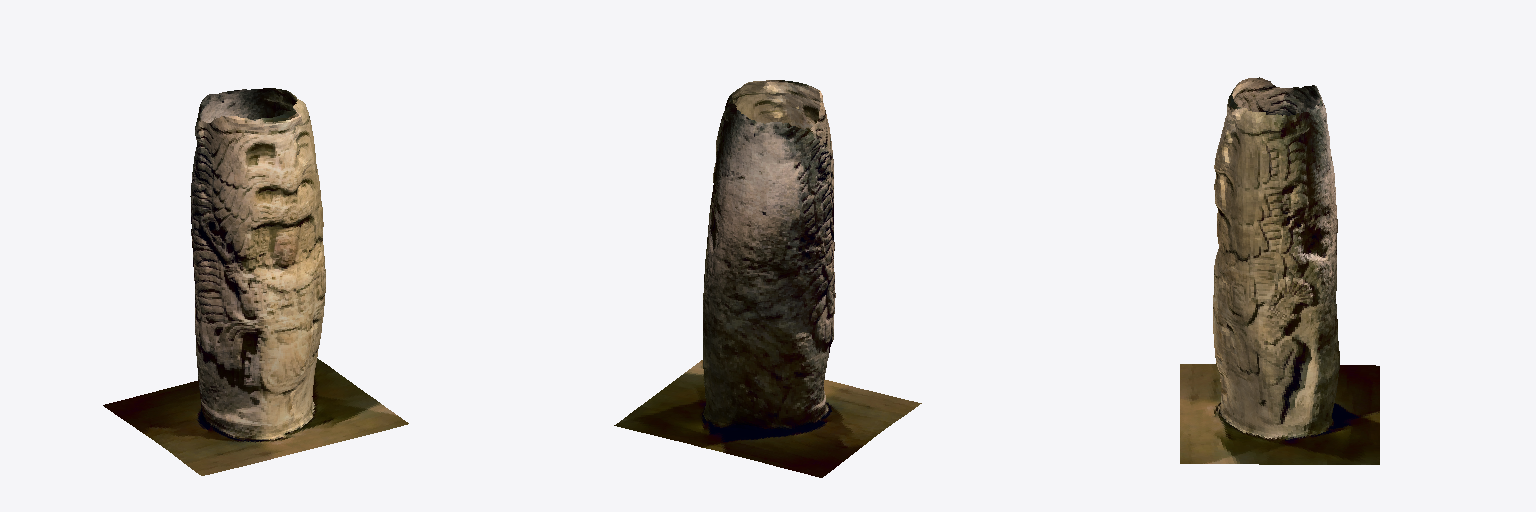
The picture shows the model from 3 angles: view 1: azimuth 30°, elevation 25°; view 2: azimuth 150°, elevation 25°; view 3: azimuth 270°, elevation 25°; orthographic projection.
Parts seen in each view (by area): view 1: mesh; view 2: mesh; view 3: mesh.
Boxes of the visible parts, x1=… form: mesh: x1=103, y1=88, x2=408, y2=475; mesh: x1=614, y1=80, x2=921, y2=477; mesh: x1=1180, y1=77, x2=1379, y2=464.
Bounding box in the file's own units: 1.2 × 1.76 × 0.9935.
Materials: 1 (1 with a texture image).